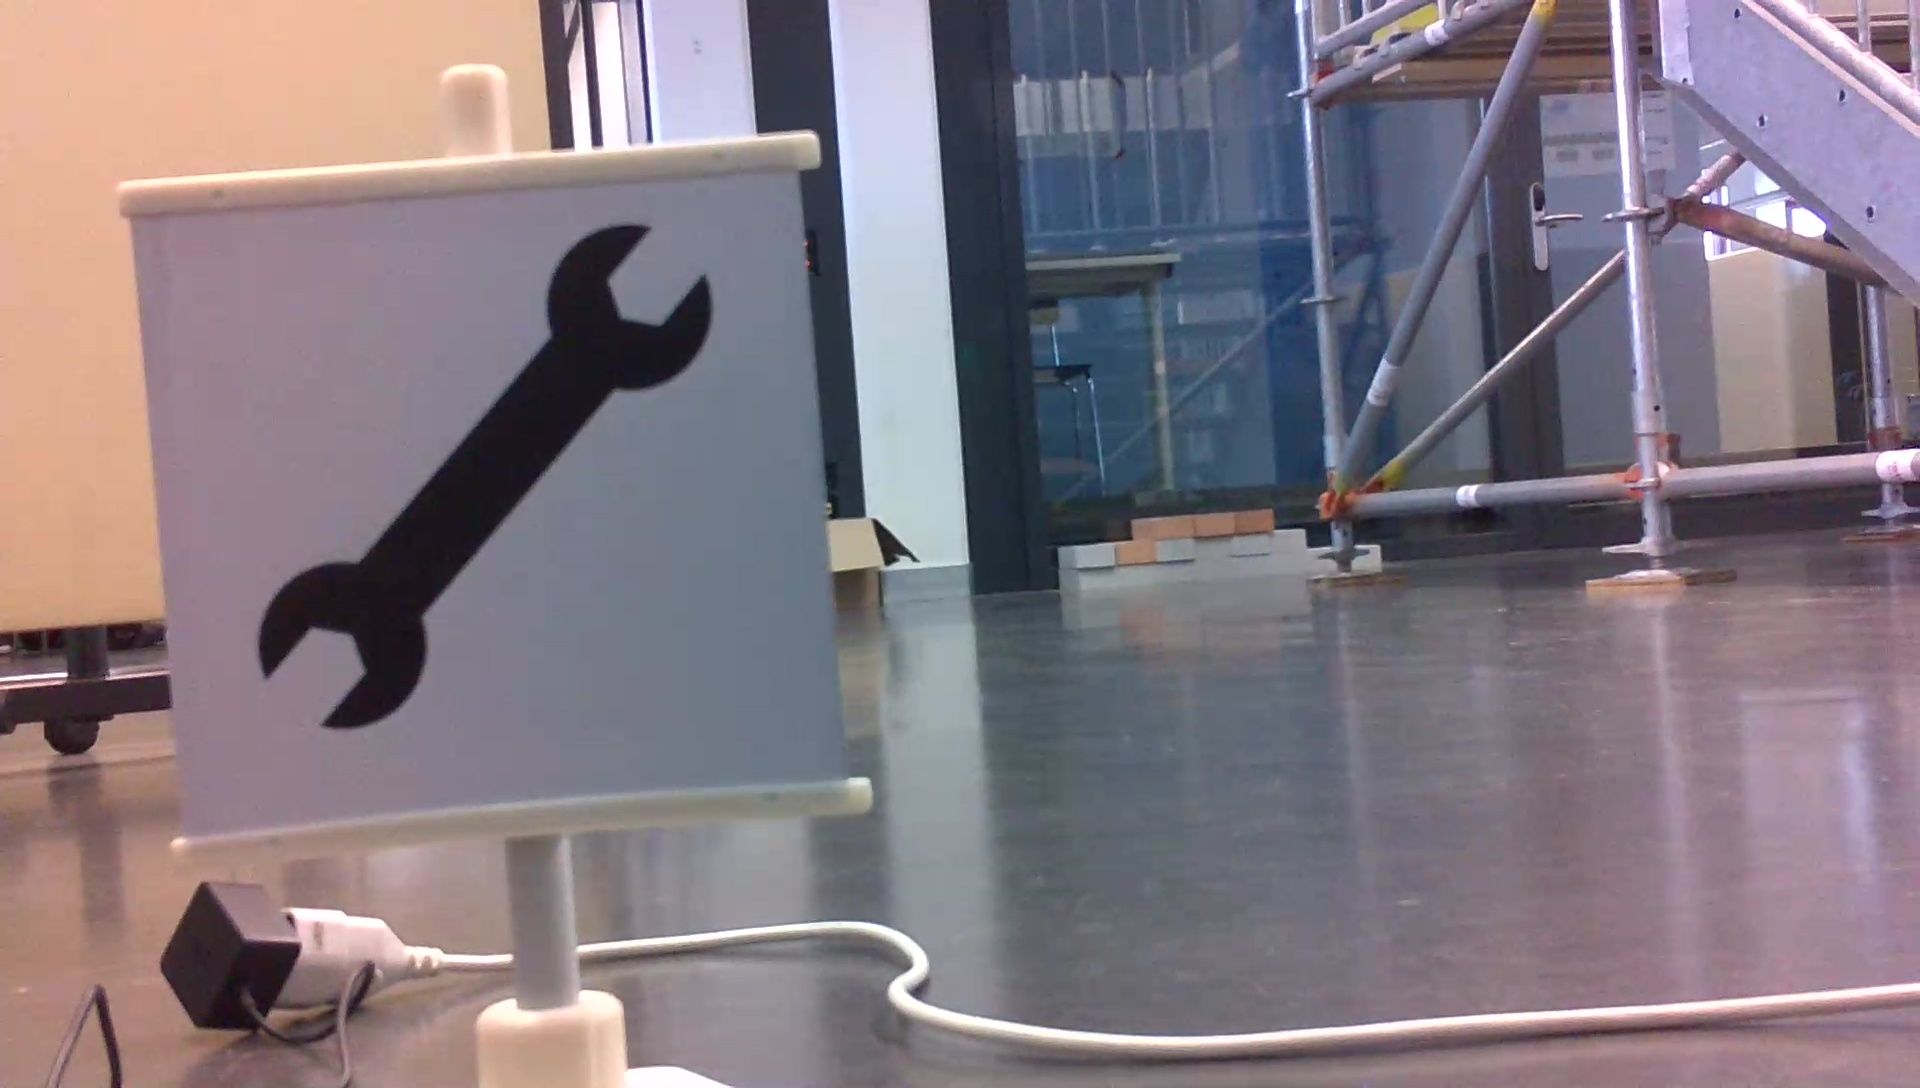wrench: (245, 214, 725, 737)
